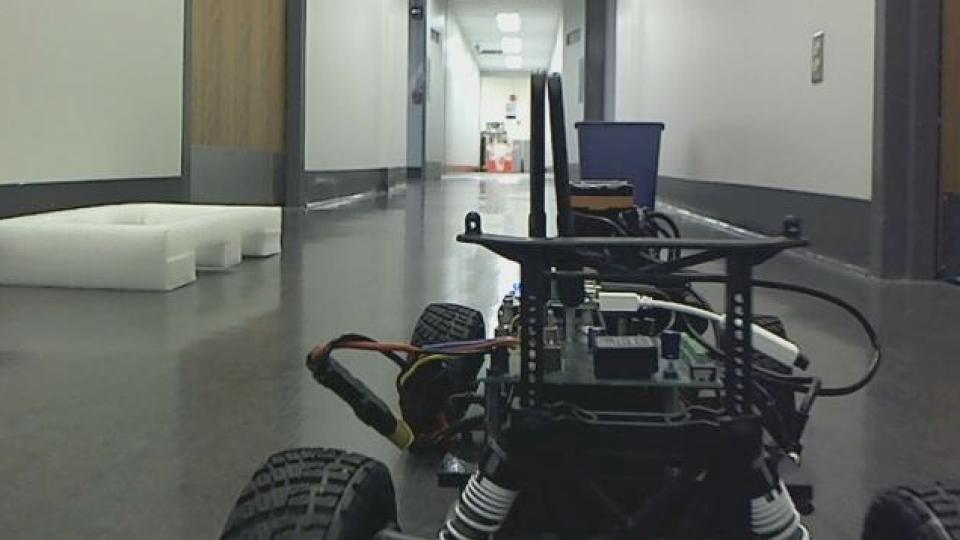car: (214, 68, 884, 538)
